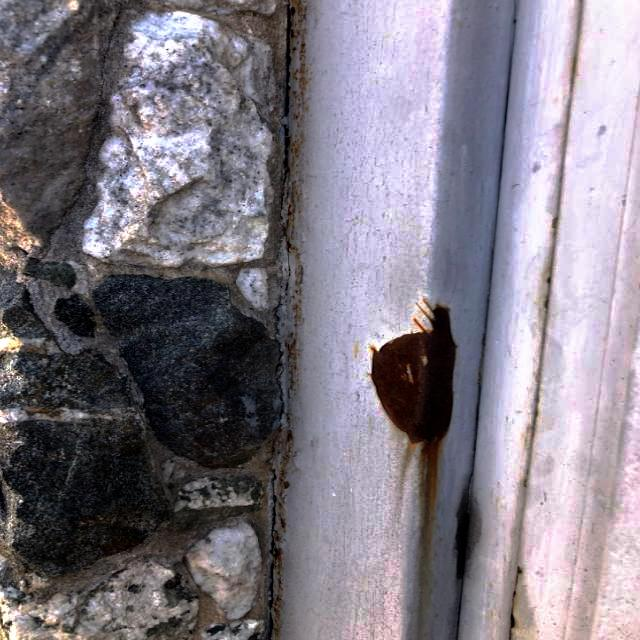Corrosion: (363, 296, 462, 449)
